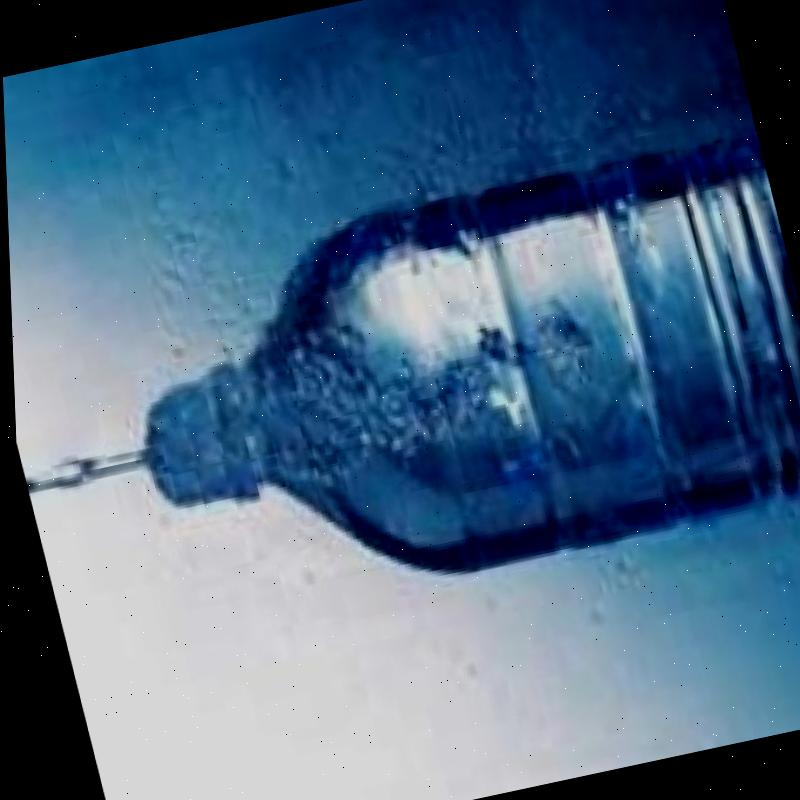botella: (91, 117, 800, 637)
